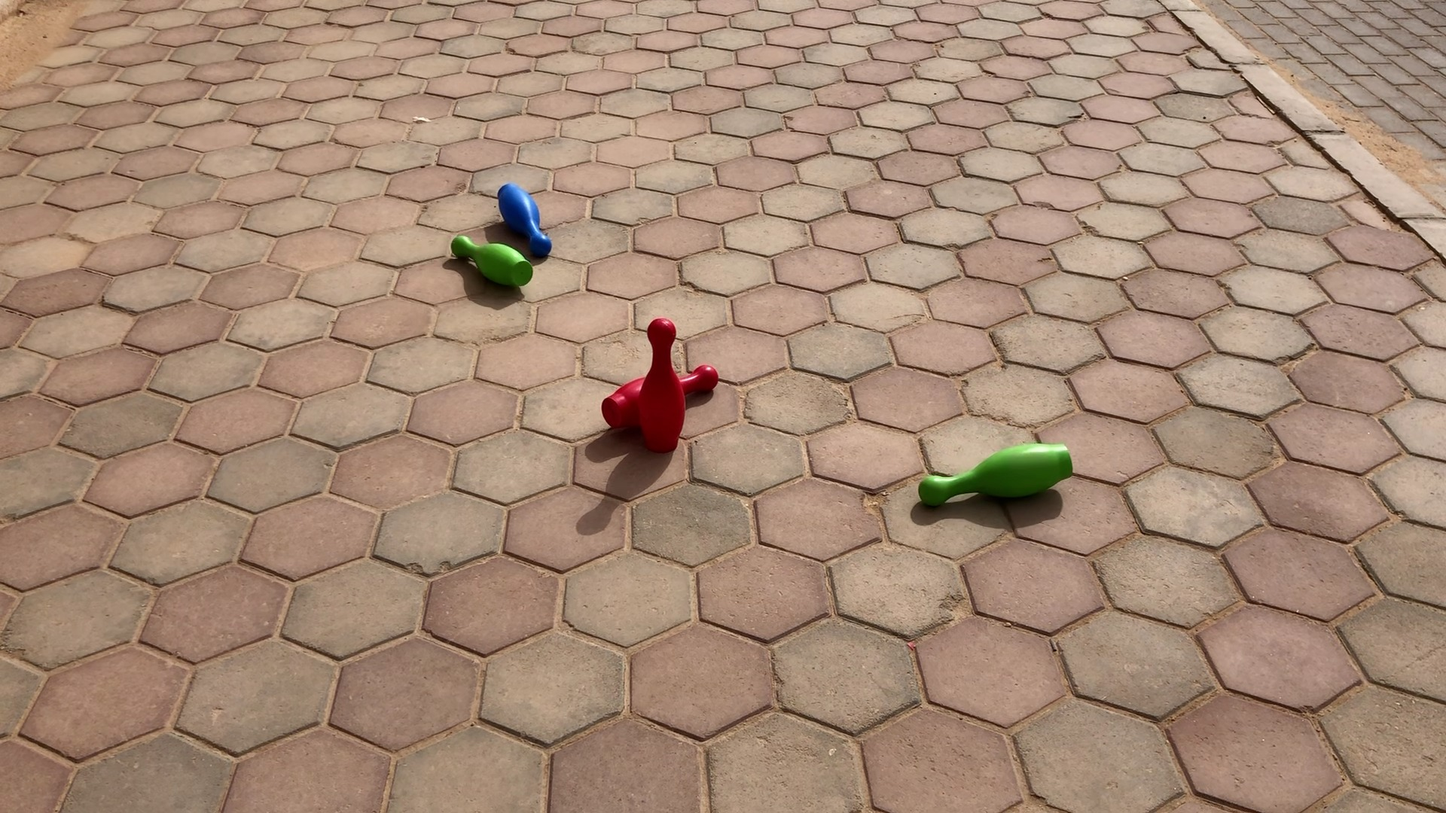bowling-pin: (615, 318, 691, 449), (918, 446, 1071, 507), (451, 235, 535, 288), (496, 184, 552, 263)
